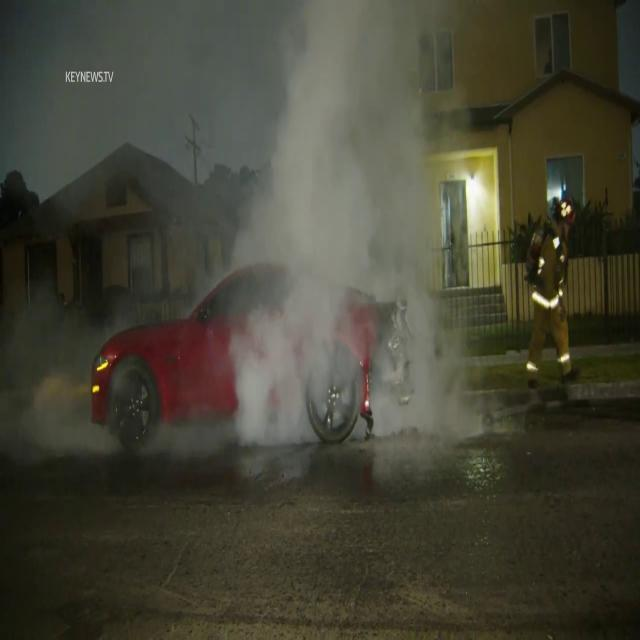Smoke: (195, 1, 460, 455)
